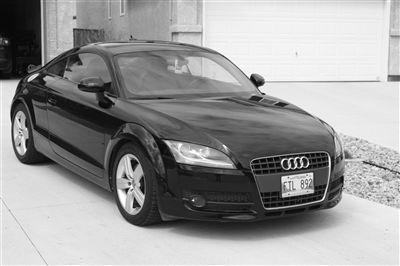car: (10, 45, 346, 224)
